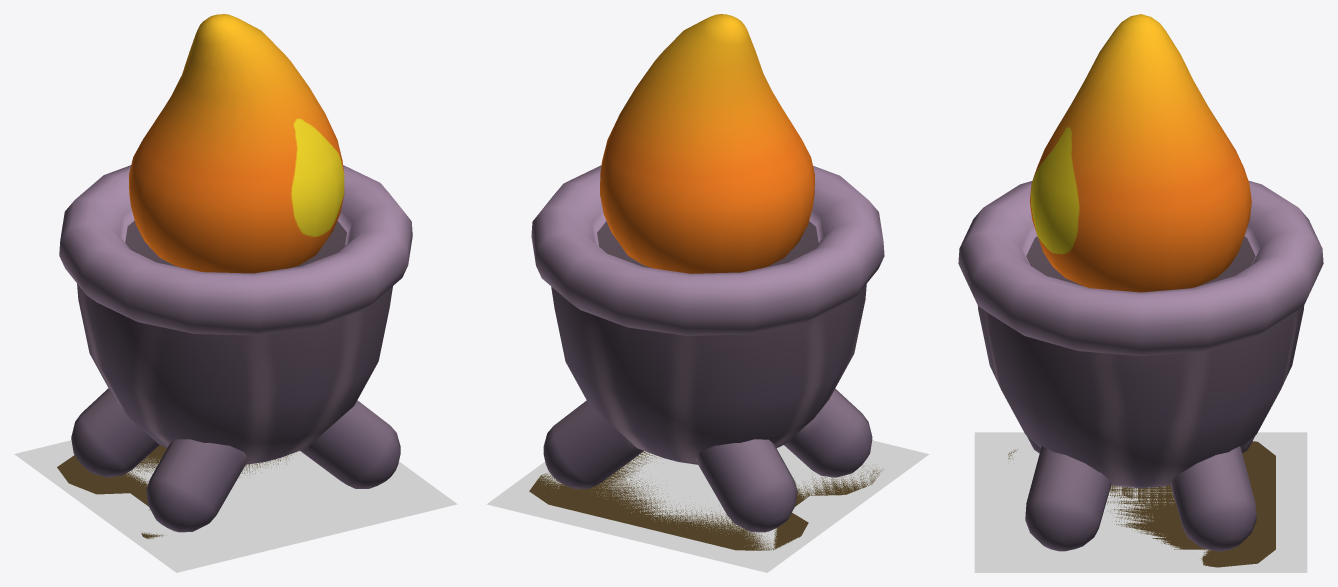
File: VK_PirFirepot.fbx
3 views of the same model, side by side, from view 1: azimuth 30°, elevation 25°; view 2: azimuth 150°, elevation 25°; view 3: azimuth 270°, elevation 25° (orthographic). The views are drawn at different scales.
Visible parts, largest first — view 1: pSphere43, pSphere41, PirFirepot_Grid, Shadow; view 2: pSphere43, pSphere41, PirFirepot_Grid, Shadow; view 3: pSphere43, pSphere41, PirFirepot_Grid, Shadow.
Part boxes in pixels (bbox=[...]): pSphere43: bbox=[59, 165, 412, 532]; pSphere41: bbox=[129, 14, 344, 273]; PirFirepot_Grid: bbox=[14, 440, 457, 572]; Shadow: bbox=[57, 445, 302, 538]; pSphere43: bbox=[531, 165, 884, 532]; pSphere41: bbox=[600, 14, 814, 273]; PirFirepot_Grid: bbox=[486, 440, 929, 572]; Shadow: bbox=[529, 451, 883, 550]; pSphere43: bbox=[958, 181, 1323, 551]; pSphere41: bbox=[1029, 14, 1251, 292]; PirFirepot_Grid: bbox=[974, 432, 1307, 572]; Shadow: bbox=[1008, 441, 1275, 567].
Bounding box in the file's own units: 1.1 × 1.59 × 1.1.
